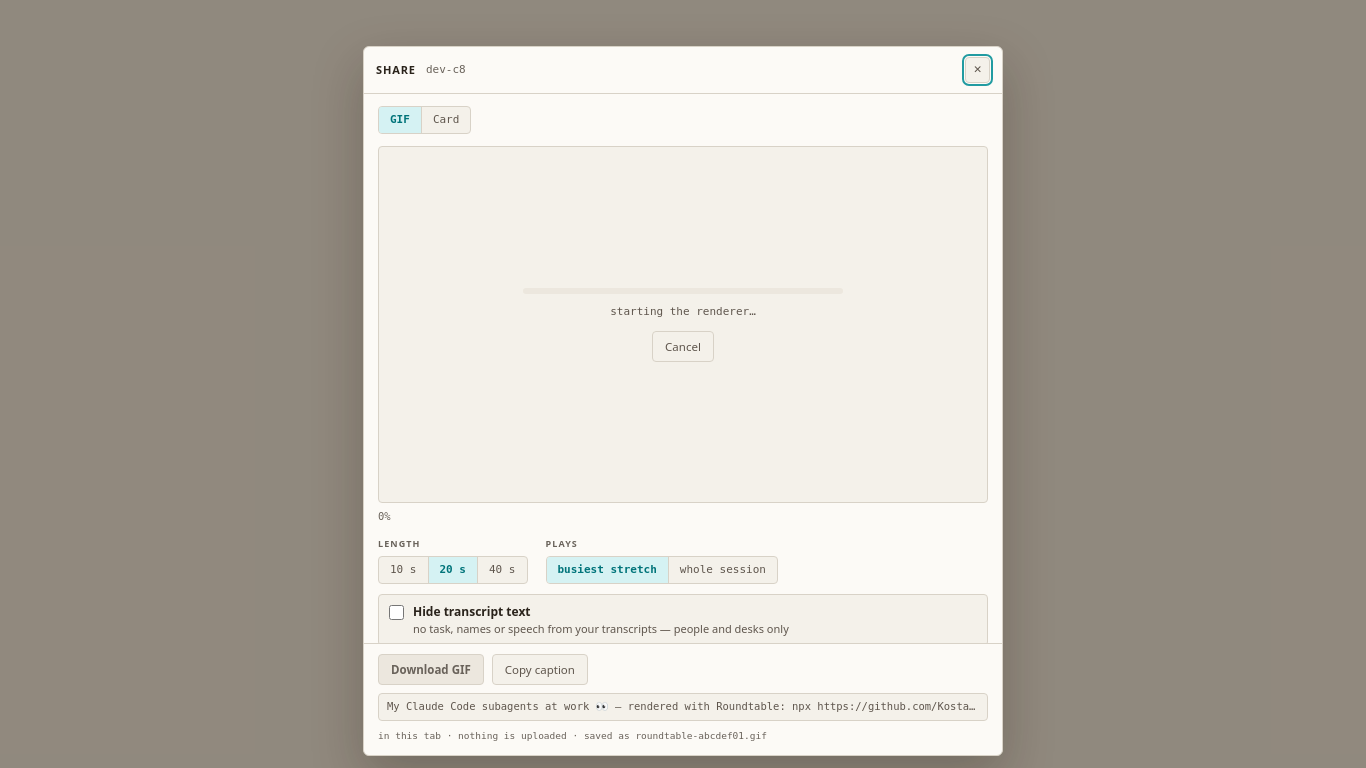
Test: the card › renders in the worker from the same events, and abandons a GIF still being made
Step 1. Click the radio button labelled "Card" → click(446, 120), box [421,107,470,133]
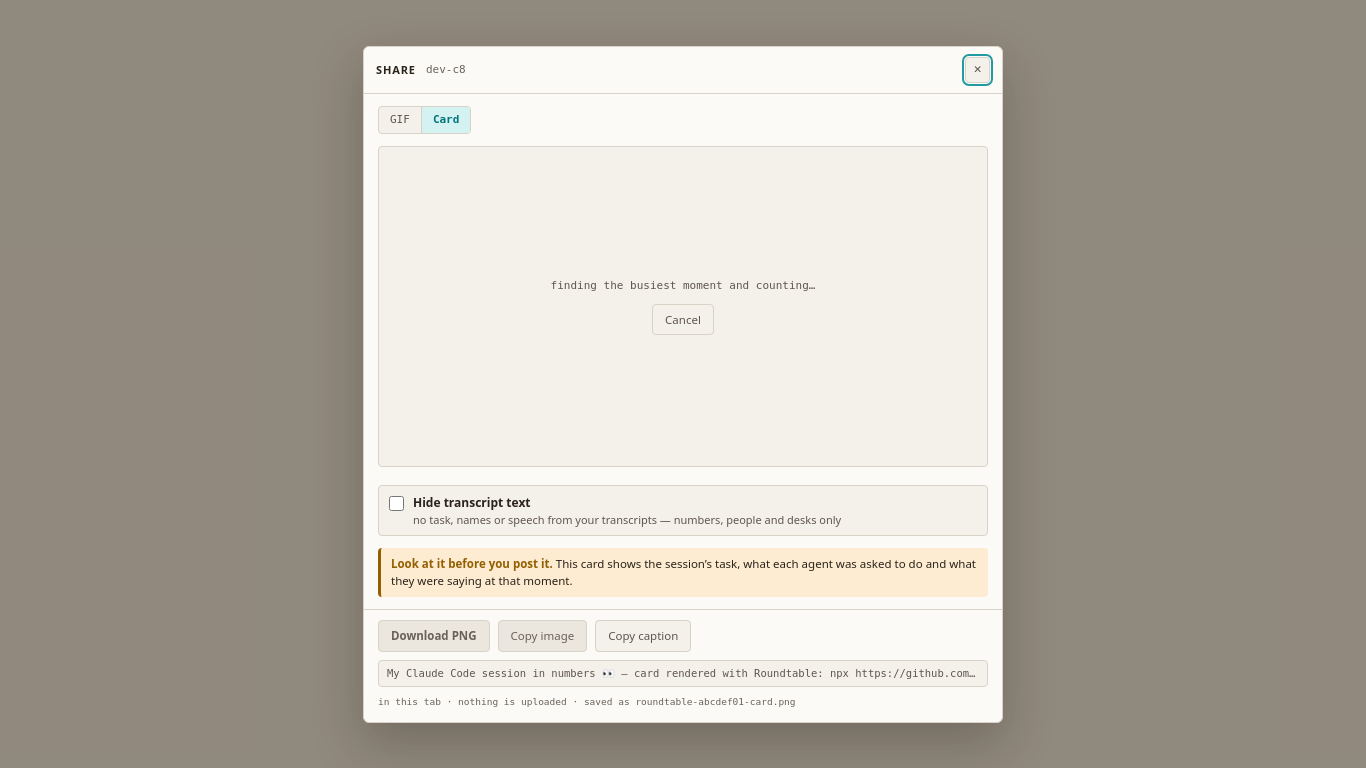
Expected: the text "finding the busiest moment" is shown, [550,279,815,292]
Expected: the button "Download PNG" is disabled, [378,620,490,652]
Expected: the button "Copy image" is disabled, [498,620,587,652]
